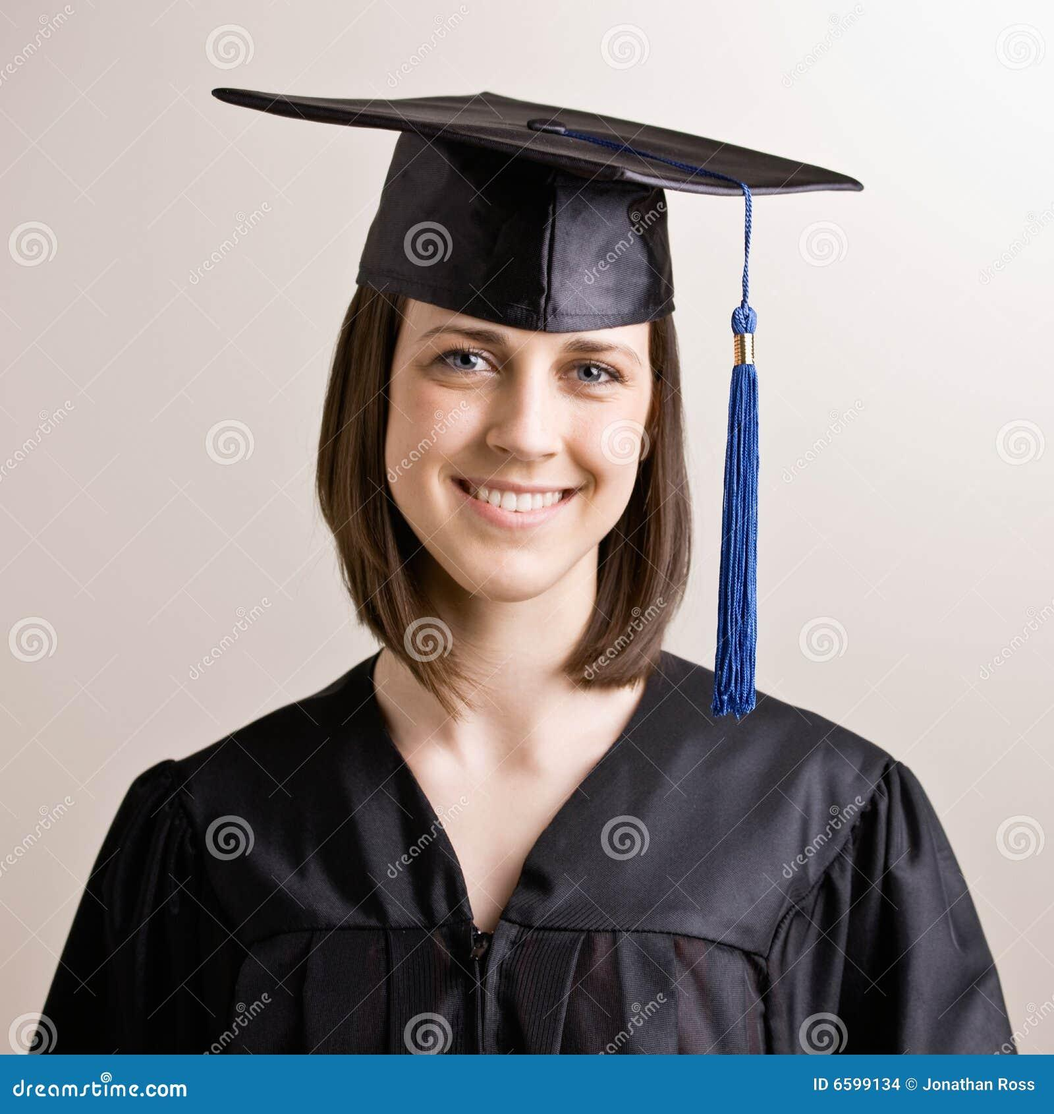cap: (168, 63, 873, 363)
